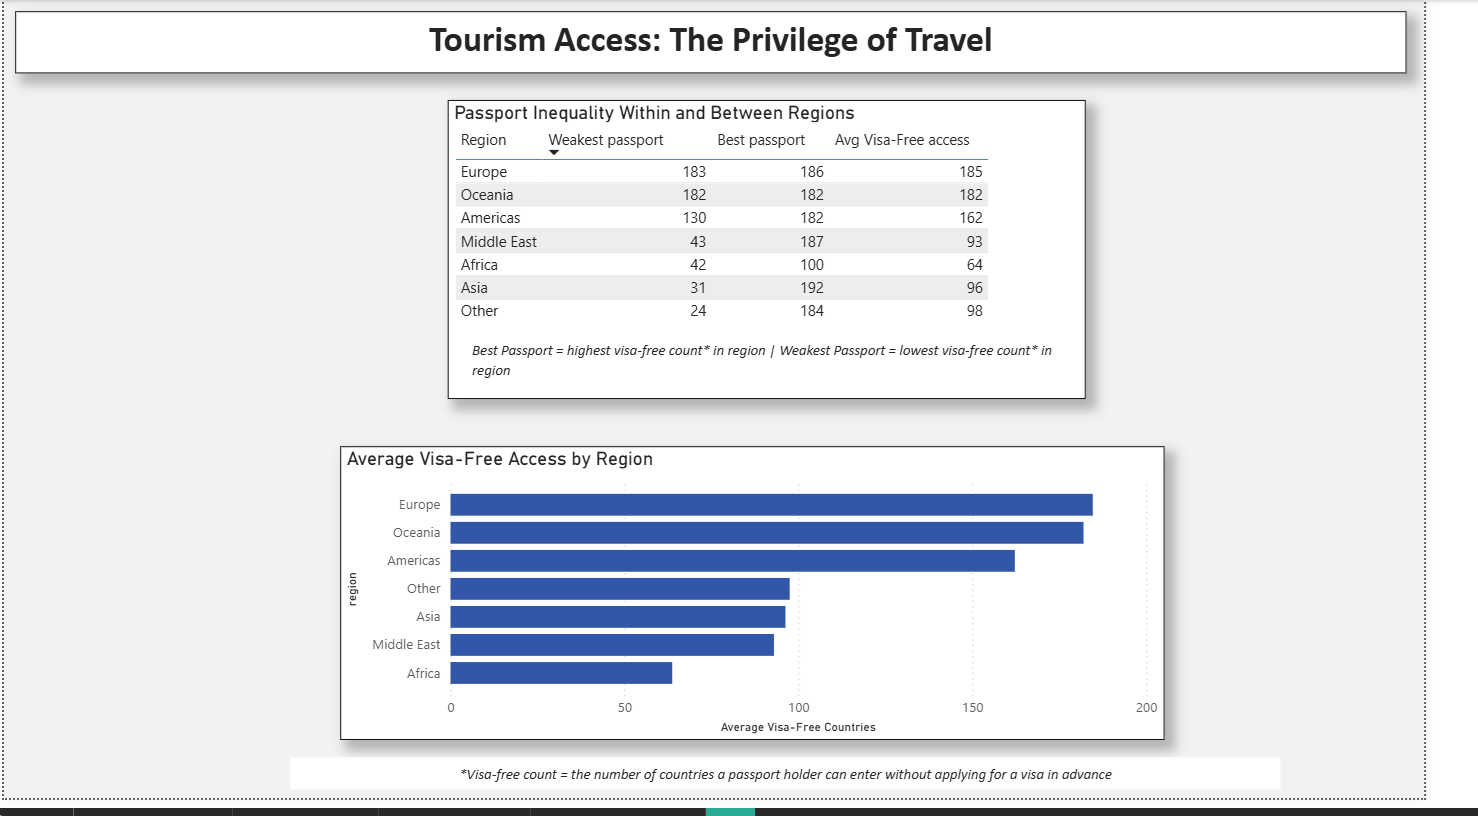

What the dashboard file says about the page in this screenshot:
{"tool":"powerbi","page":{"name":"Tourism access","canvas":[1280,720],"ordinal":2},"visuals":[{"type":"textbox","box":[10.5,10.5,1254.7,55.8],"z":0},{"type":"clusteredBarChart","title":"Average Visa-Free Access by Region","fields":{"Category":["public dim_passport.region"],"Y":["Avg(public dim_passport.visa_free_count)"]},"box":[303.5,402.3,743,265.1],"z":1000},{"type":"tableEx","title":"Passport Inequality Within and Between Regions","fields":{"Values":["public dim_passport.region","public dim_economy.Region Min Access","public dim_economy.Region Max Access","public dim_economy.Region Avg Access"]},"box":[400,90.7,575.6,269.8],"z":2000},{"type":"textbox","box":[417.4,301.2,537.2,45.3],"z":3000},{"type":"textbox","box":[258.1,682.6,893,29.1],"z":4000}]}

Visuals, with their boxes in screenshot pixels (x1, y1, x2, y2), scaled from the page's 1280x720 canvas onto the 1478x816 screenshot:
textbox: box=[12, 12, 1461, 75]
"Average Visa-Free Access by Region" clusteredBarChart: box=[350, 456, 1208, 756]
"Passport Inequality Within and Between Regions" tableEx: box=[462, 103, 1127, 409]
textbox: box=[482, 341, 1102, 393]
textbox: box=[298, 774, 1329, 807]
